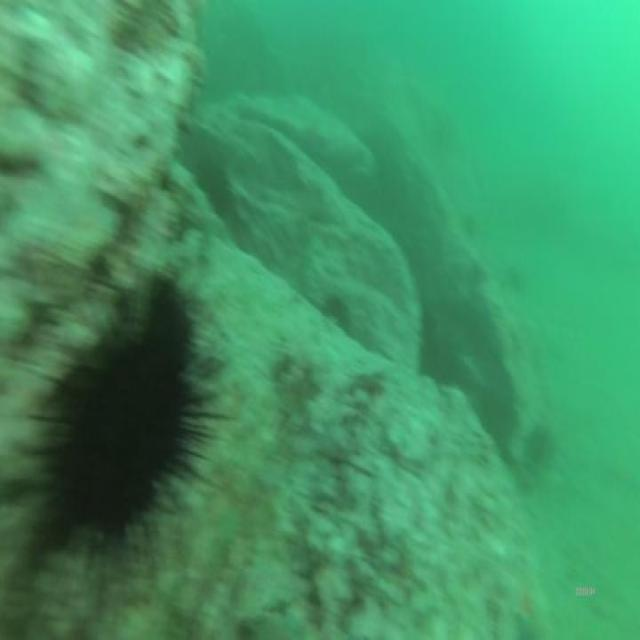echinus: (21, 264, 223, 599), (190, 155, 236, 221), (522, 420, 554, 471), (322, 291, 352, 335), (498, 259, 525, 296), (460, 209, 480, 240)
